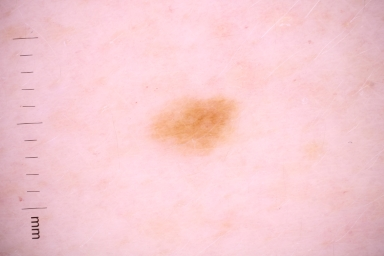nevus: (153, 100, 239, 154)
